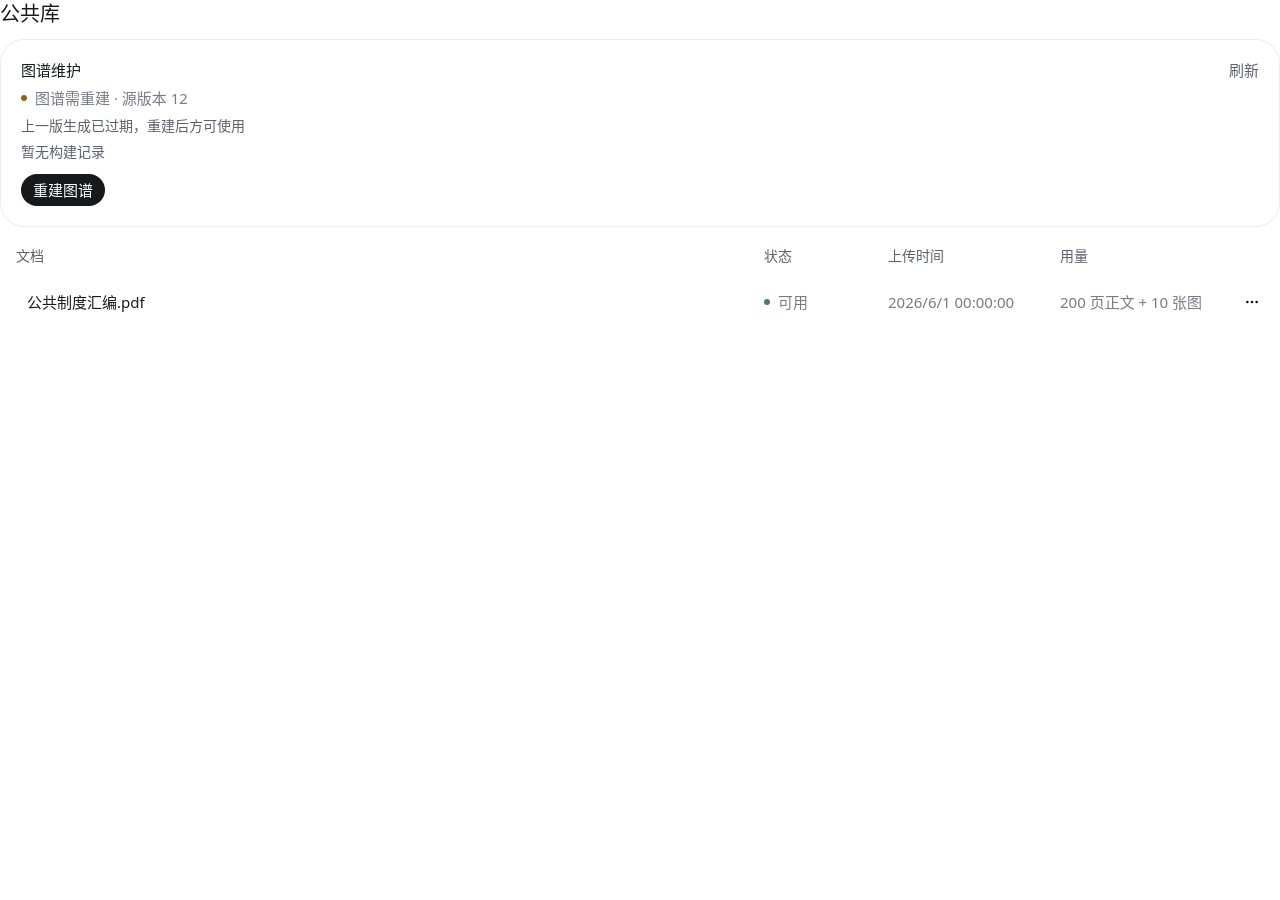
图谱维护区（§6.12，ops） › 409 graph_source_changed：关框 + 错误行 + 状态刷新（最新 revision）
This screenshot has width=1280, height=900.
What coordinates should you click on to do the following:
click the button "重建图谱"
I would click on:
 (63, 190)
Its box is 21,174 -> 105,206.
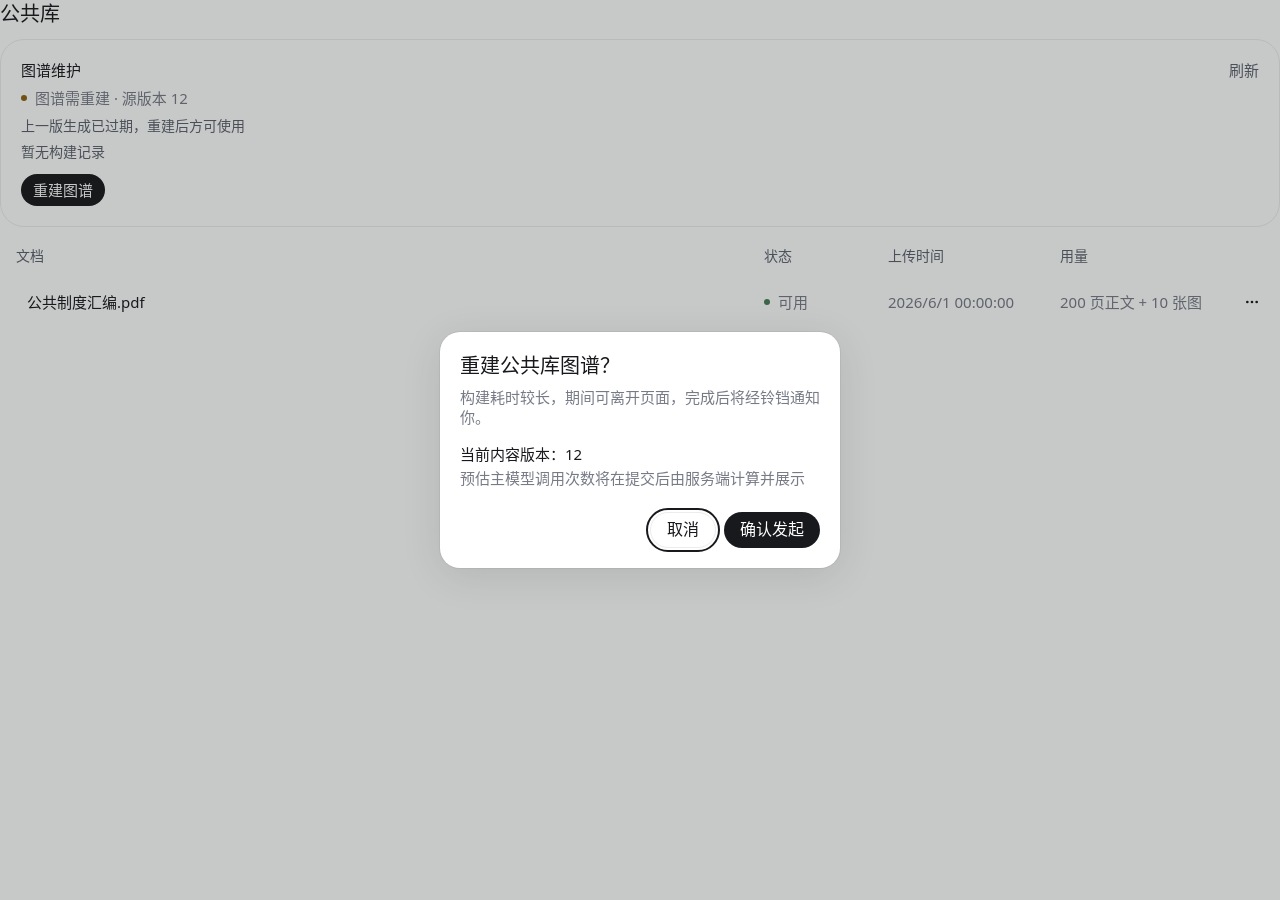
What coordinates should you click on to do the following:
click the button "确认发起"
I would click on:
 (772, 530)
Its box is 724,512 -> 820,548.
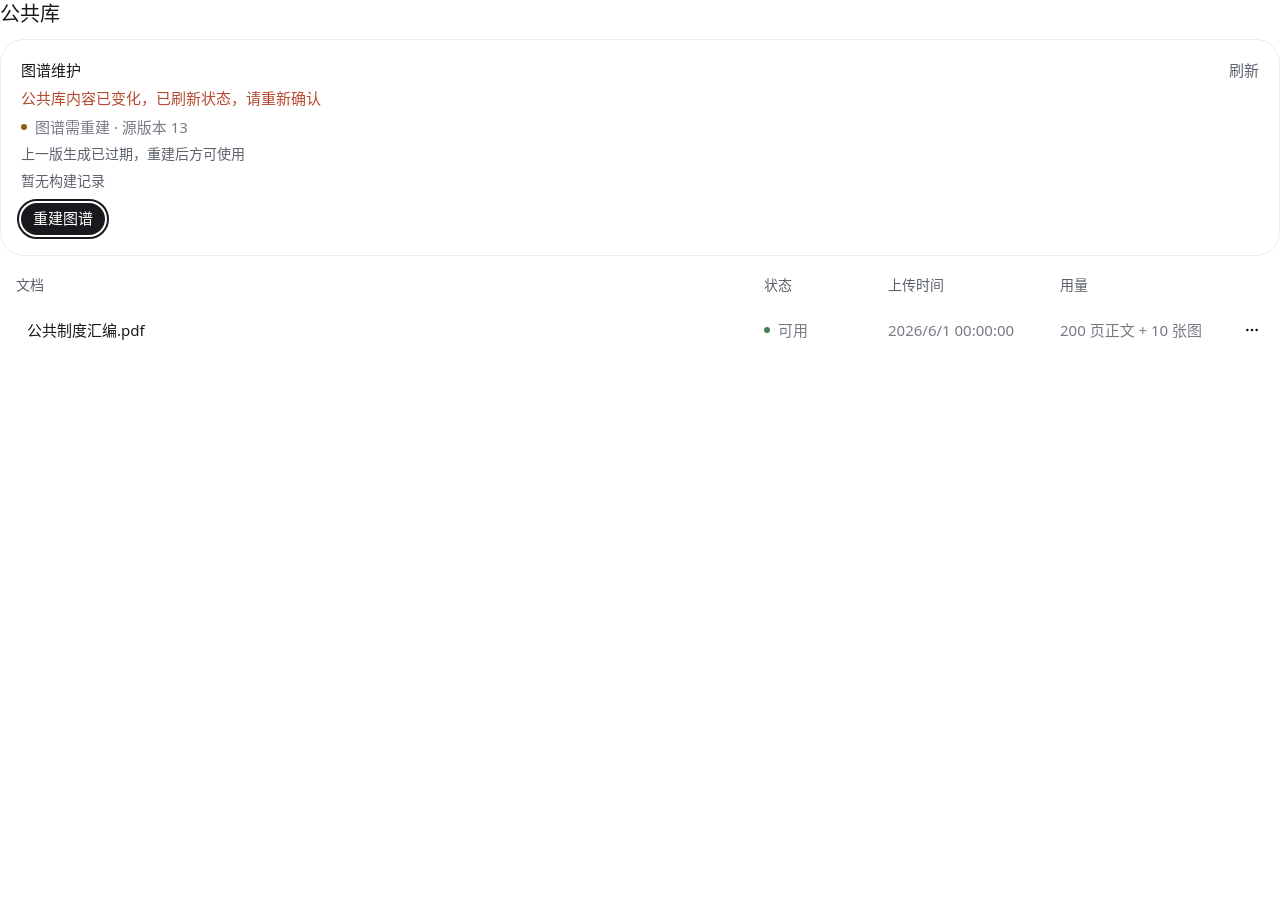
Now the text "公共库内容已变化，已刷新状态，请重新确认" is shown, box 21,88 -> 321,109
Now the dialog is gone
